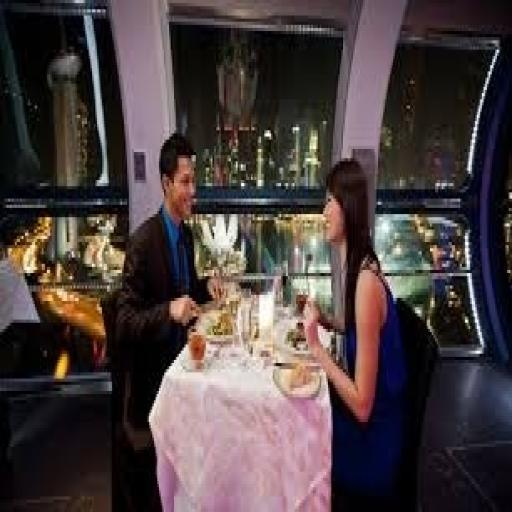eating: (107, 124, 413, 506), (299, 152, 410, 509)
